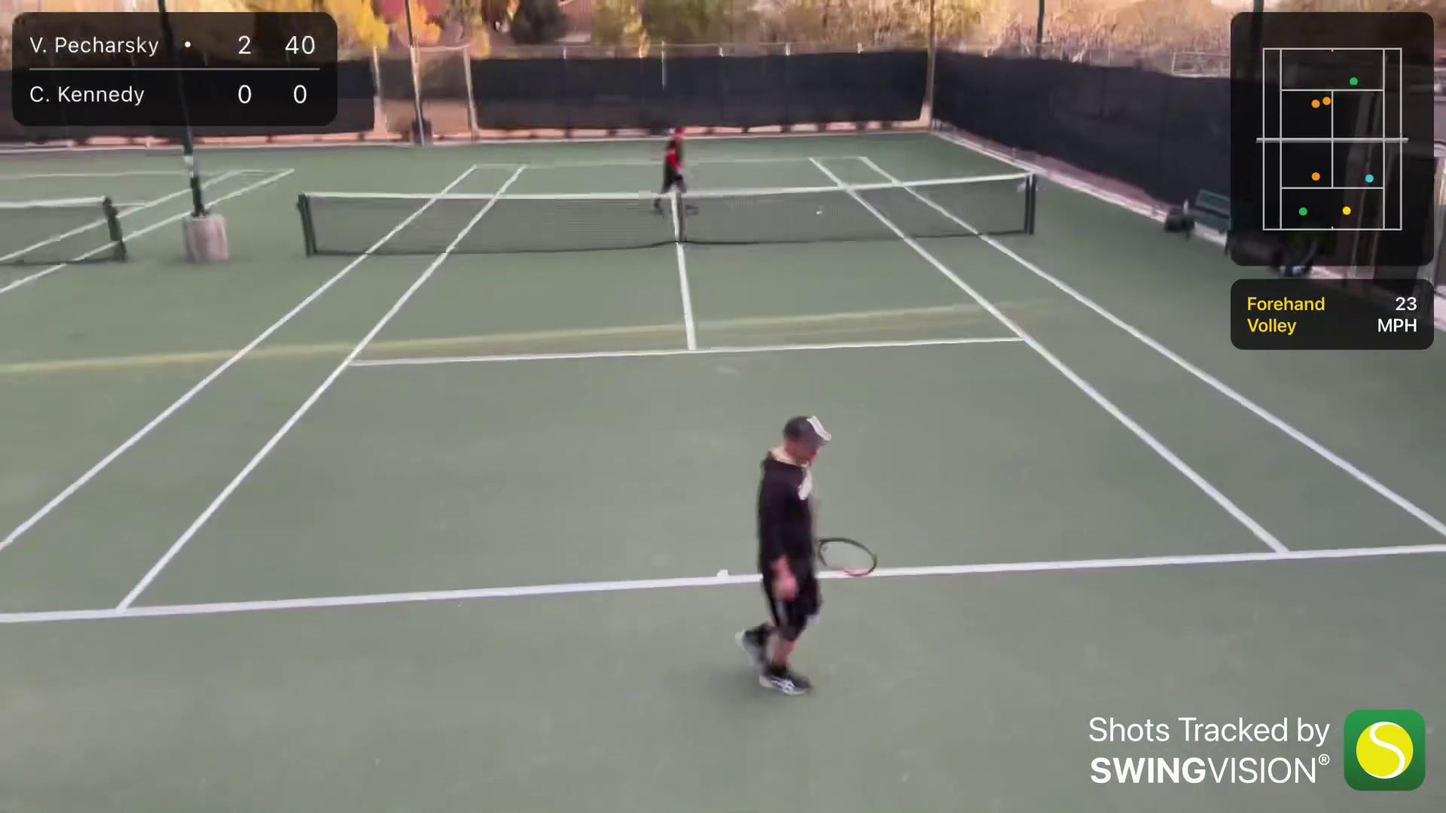ball: (815, 209, 824, 216)
